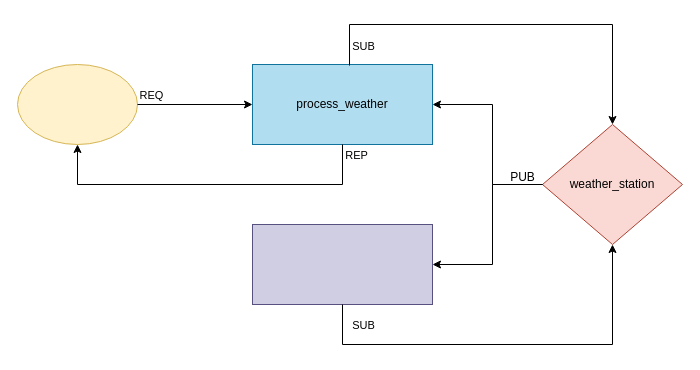
Some shapes in this 700 by 370 pixel diagram are drawn without their labels. Each missing label, with the centre of its shape:
"client" belongs at [77,104].
"process_co2" belongs at [342,264].
